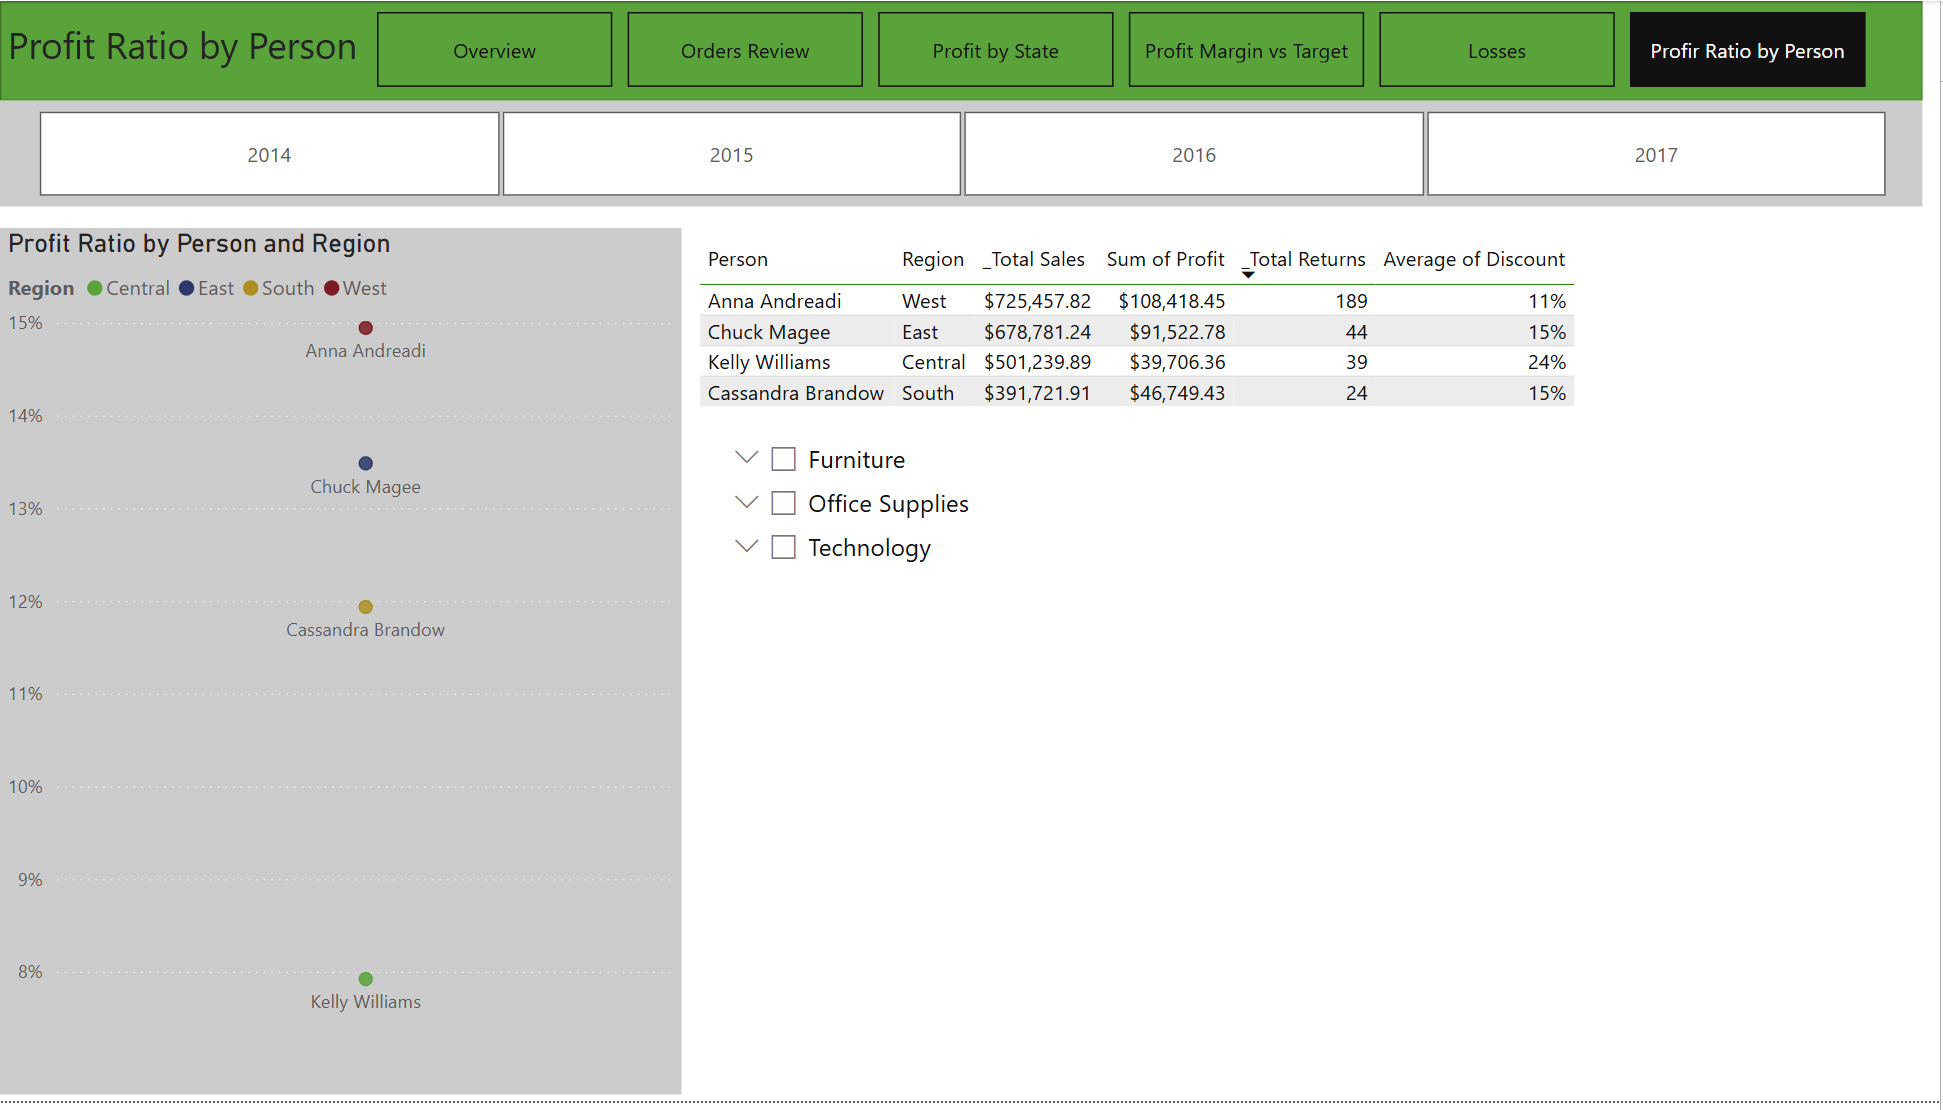

This screenshot's page, from the dashboard's own definition file:
{"tool":"powerbi","page":{"name":"Profir Ratio by Person","canvas":[1280,720],"ordinal":5},"visuals":[{"type":"scatterChart","title":"Profit Ratio by Person and Region","fields":{"Y":["Orders._Profit Ratio"],"Category":["People.Person"],"Series":["People.Region"]},"box":[10.5,148.5,445.6,566.7],"z":0},{"type":"tableEx","fields":{"Values":["People.Person","People.Region","Orders._Total Sales","Sum(Orders.Profit)","Returns._Total Returns","Avg(Orders.Discount)"]},"box":[462.8,153.1,587.9,126.5],"z":1000},{"type":"shape","box":[10.5,0,1258.4,65.4],"z":2000},{"type":"pageNavigator","box":[257.4,7.2,976.4,49.8],"z":3000},{"type":"textbox","box":[10.5,7.2,255.2,54.3],"z":4000},{"type":"slicer","fields":{"Values":["Orders.Order Date.Variation.Date Hierarchy.Year"]},"box":[10.5,65.4,1258.4,68.7],"z":5000},{"type":"slicer","title":"Gross Loss by Category ($)","fields":{"Values":["Products.Category","Products.Sub-Category","Products.Product Name"]},"box":[478.4,279.4,278.1,440.4],"z":6000}]}

Visuals, with their boxes in screenshot pixels (x1, y1, x2, y2), scaled from the page's 1280x720 canvas onto the 1943x1110 screenshot:
"Profit Ratio by Person and Region" scatterChart: <bbox>16, 229, 692, 1103</bbox>
tableEx - People.Person x People.Region: <bbox>703, 236, 1595, 431</bbox>
shape: <bbox>16, 0, 1926, 101</bbox>
pageNavigator: <bbox>391, 11, 1873, 88</bbox>
textbox: <bbox>16, 11, 403, 95</bbox>
slicer - Orders.Order Date.Variation.Date Hierarchy.Year: <bbox>16, 101, 1926, 207</bbox>
"Gross Loss by Category ($)" slicer: <bbox>726, 431, 1148, 1109</bbox>
